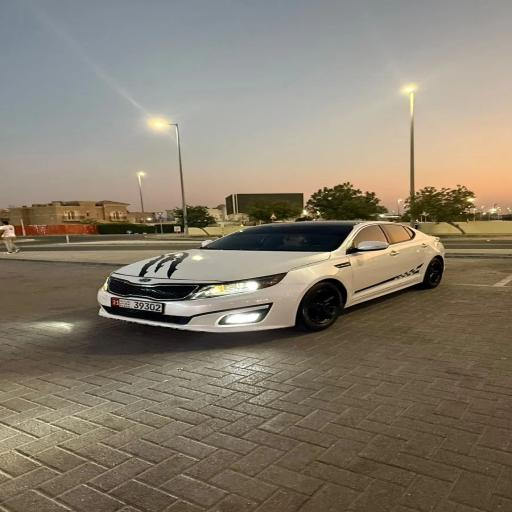license-plates: (111, 297, 162, 312)
